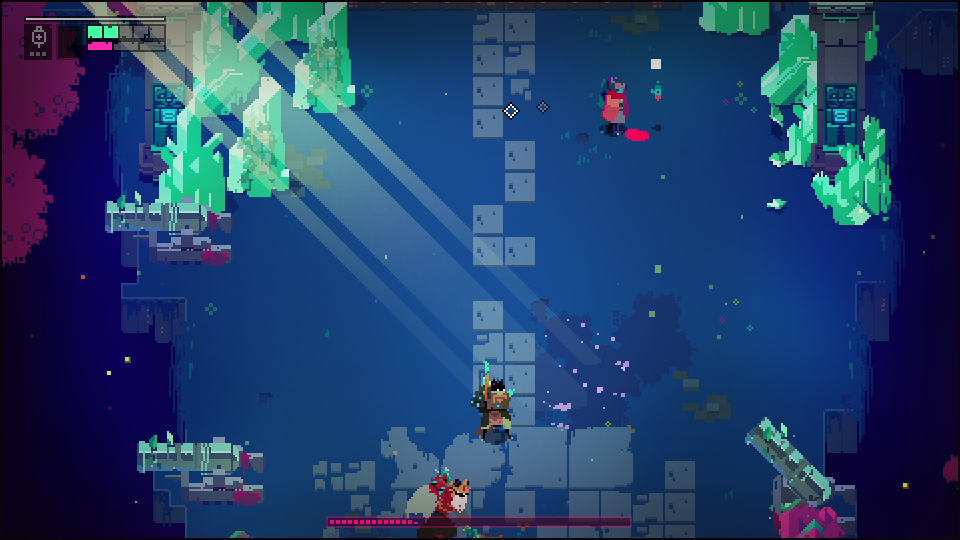hanged_man: (402, 468, 502, 540)
player: (598, 72, 633, 138)
